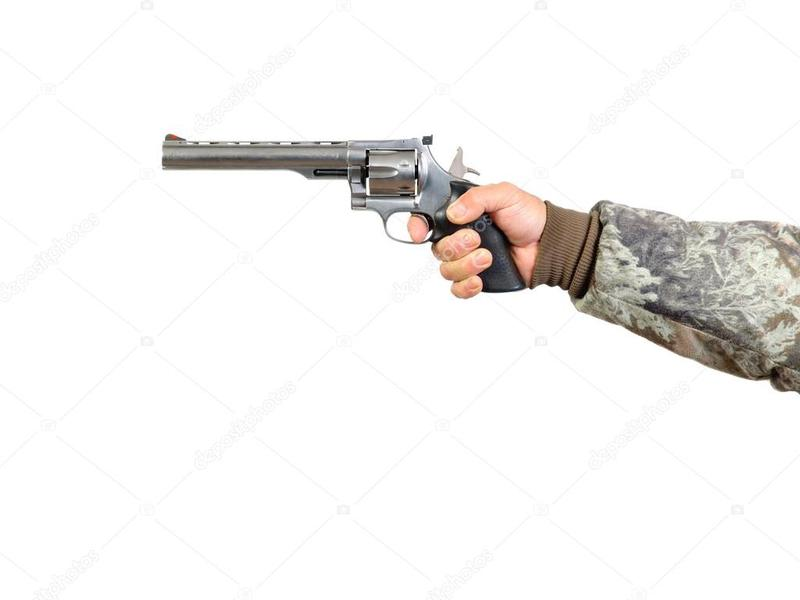Revolver: (152, 96, 547, 304)
